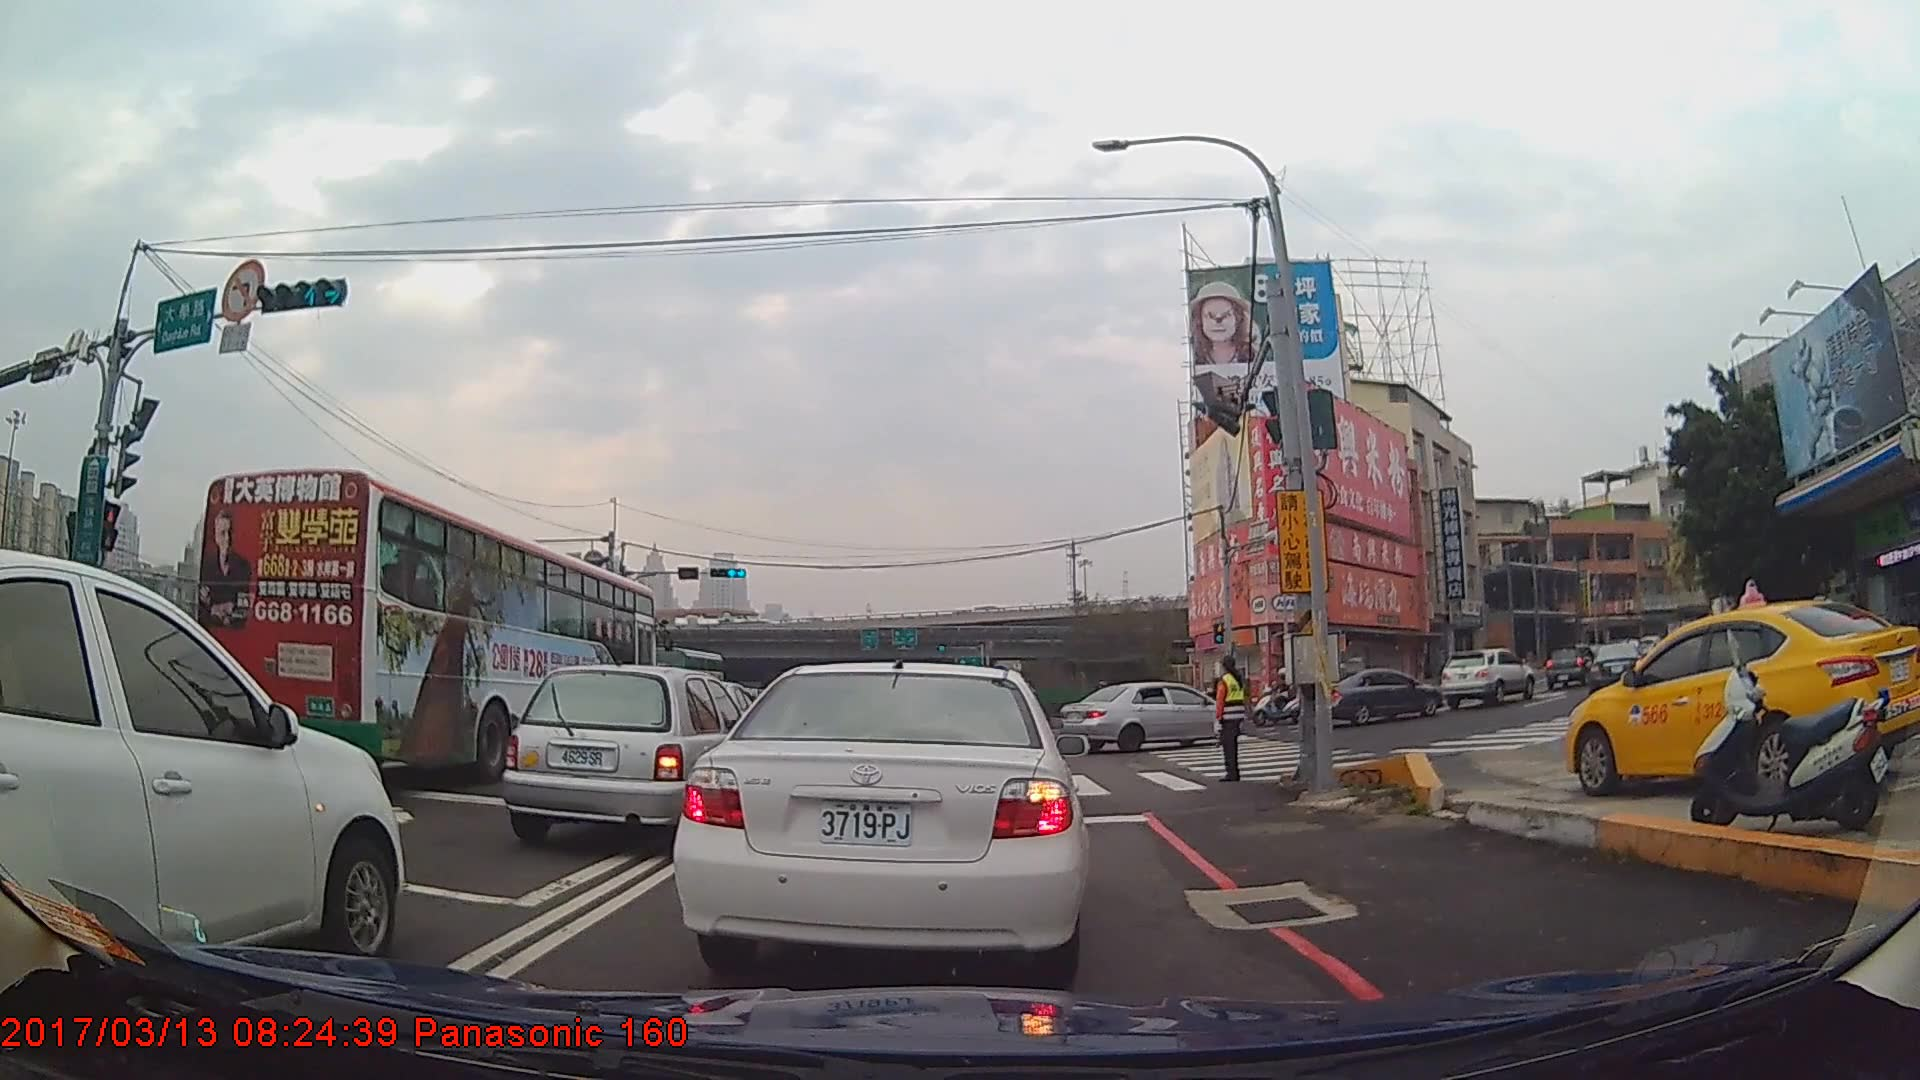pedestrian: (1208, 658, 1253, 786)
rider: (1253, 667, 1302, 725)
vehicle: (0, 545, 401, 1003), (187, 461, 664, 791), (673, 661, 1090, 980), (1560, 597, 1920, 797), (499, 663, 764, 850), (1056, 681, 1241, 753), (1315, 666, 1441, 726), (1440, 647, 1536, 709), (1584, 638, 1652, 701), (1546, 643, 1599, 689)
